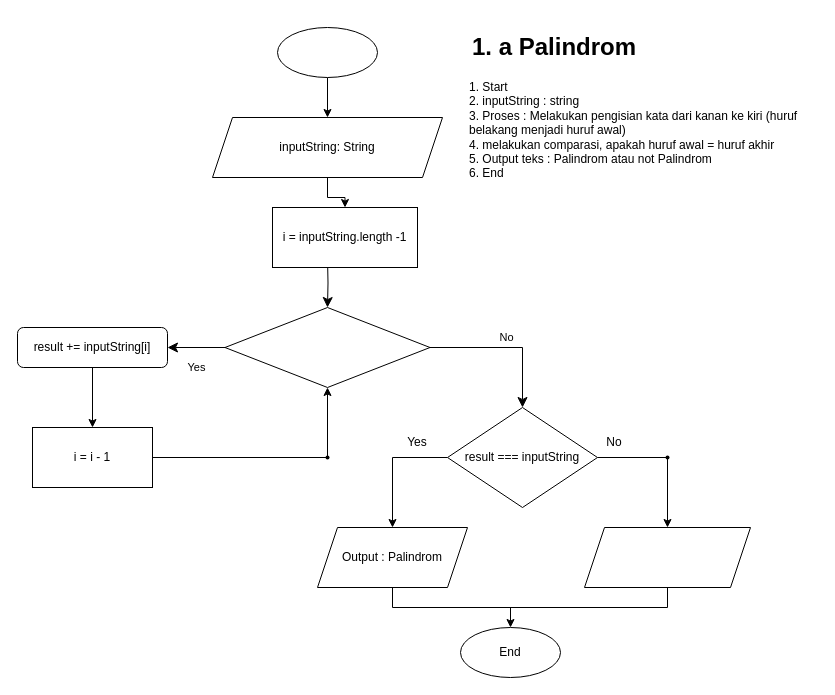
The diagram is 835 pixels wide and 695 high, and some of its shapes have lost their labels. The box of each missing label's shape, as (x1, y1, x2, y2) in pixels:
i >= 0: (224, 306, 430, 388)
Output : not Palindrom: (584, 526, 750, 588)
Start: (276, 26, 378, 78)
